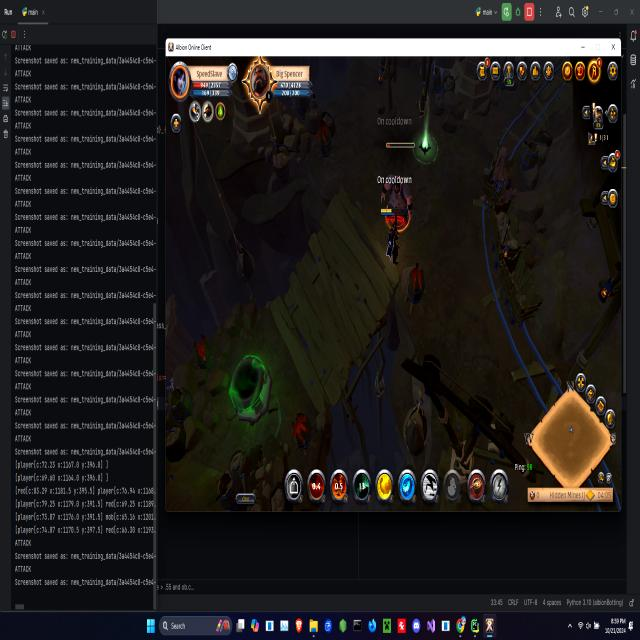ore: (378, 138, 419, 238)
red: (380, 206, 410, 272)
